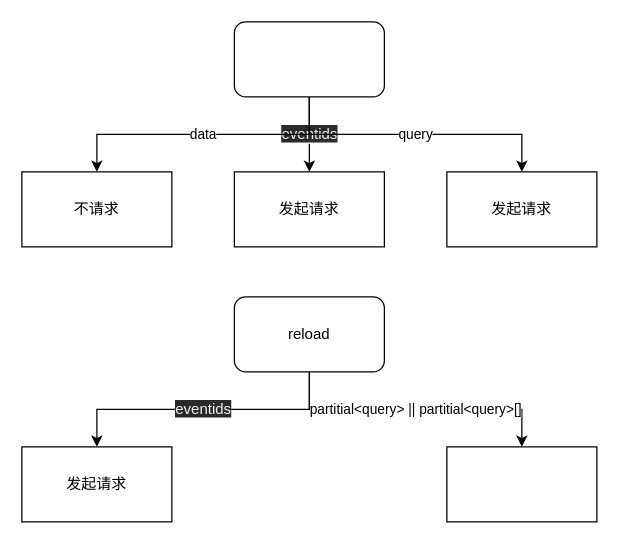
The diagram is 619 pixels wide and 544 high, and some of its shapes have lost their labels. The shapes that lost their labels are listed below. From the top down, each one's centre as x and y in pixels, then its label:
At point 308,59: "初始化".
At point 521,484: "合并请求".
